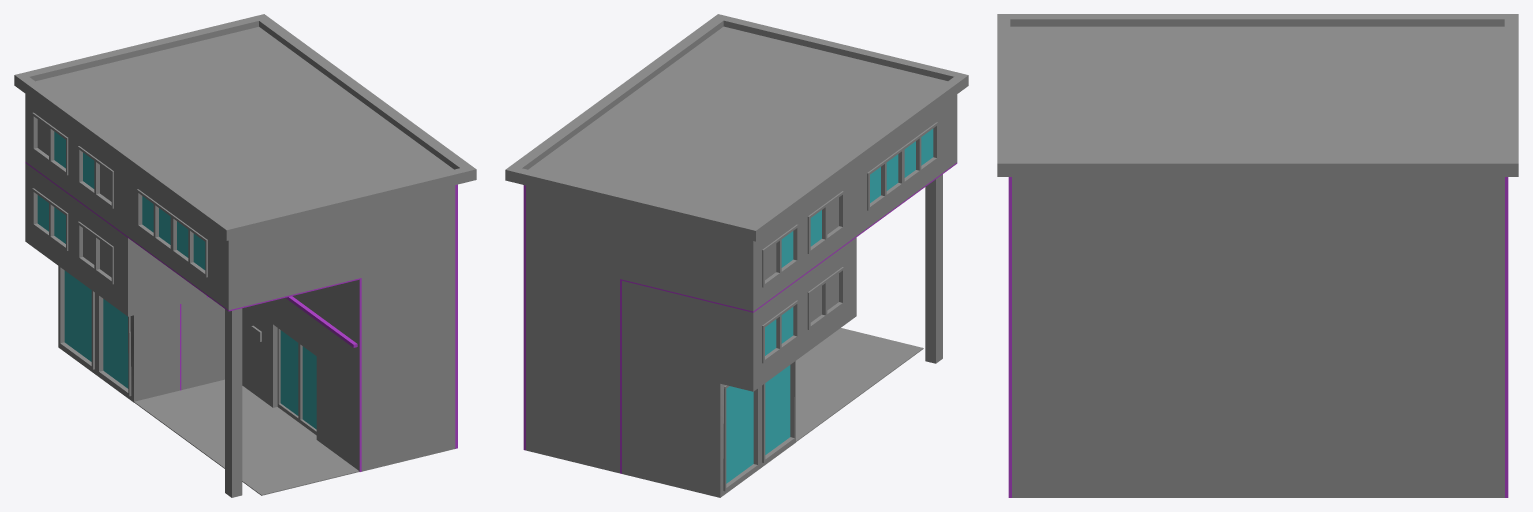
The model's file is buildings_S_07_VAR3 1.fbx.
3 renders of one model, left to right at view 1: azimuth 30°, elevation 25°; view 2: azimuth 150°, elevation 25°; view 3: azimuth 270°, elevation 25°, orthographic. The views are drawn at different scales.
Parts seen in each view (by area): view 1: buildings_S_07_VAR3; view 2: buildings_S_07_VAR3; view 3: buildings_S_07_VAR3.
Part boxes in pixels (x1=…): buildings_S_07_VAR3: x1=14, y1=14, x2=476, y2=497; buildings_S_07_VAR3: x1=505, y1=14, x2=968, y2=497; buildings_S_07_VAR3: x1=997, y1=14, x2=1518, y2=497.
Size of the model in its own units: 8.32 by 8.88 by 12.24.
